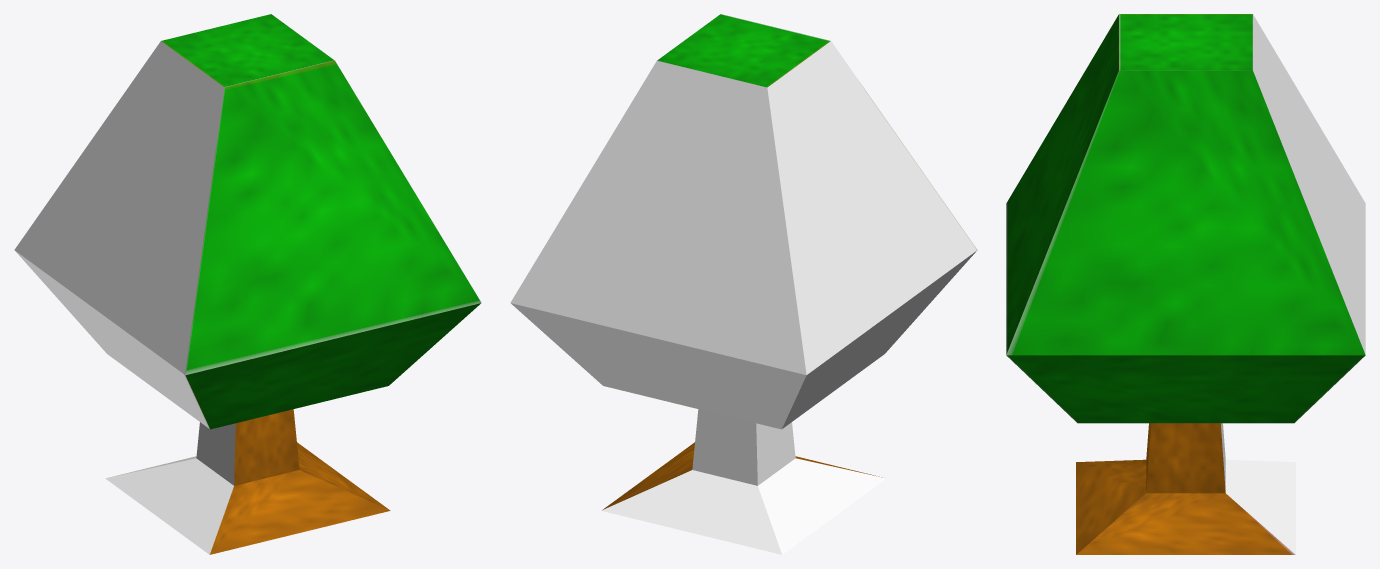
The model's file is textured_tree.dae.
3 renders of one model, left to right at view 1: azimuth 30°, elevation 25°; view 2: azimuth 150°, elevation 25°; view 3: azimuth 270°, elevation 25°, orthographic. The views are drawn at different scales.
Visible parts, largest first — view 1: Cube; view 2: Cube; view 3: Cube.
Part boxes in pixels (bbox=[...]): Cube: bbox=[14, 14, 481, 554]; Cube: bbox=[510, 14, 977, 554]; Cube: bbox=[1006, 14, 1365, 554].
Bounding box in the file's own units: 3.32 × 3.32 × 4.75.
1 material, 1 textured.
